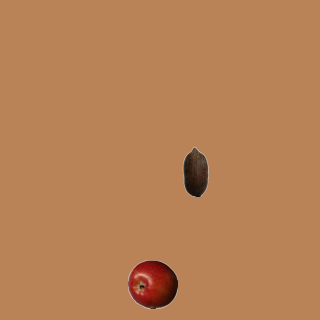Apple Braeburn: (127, 259, 177, 309)
Nut Pecan: (170, 146, 220, 196)
